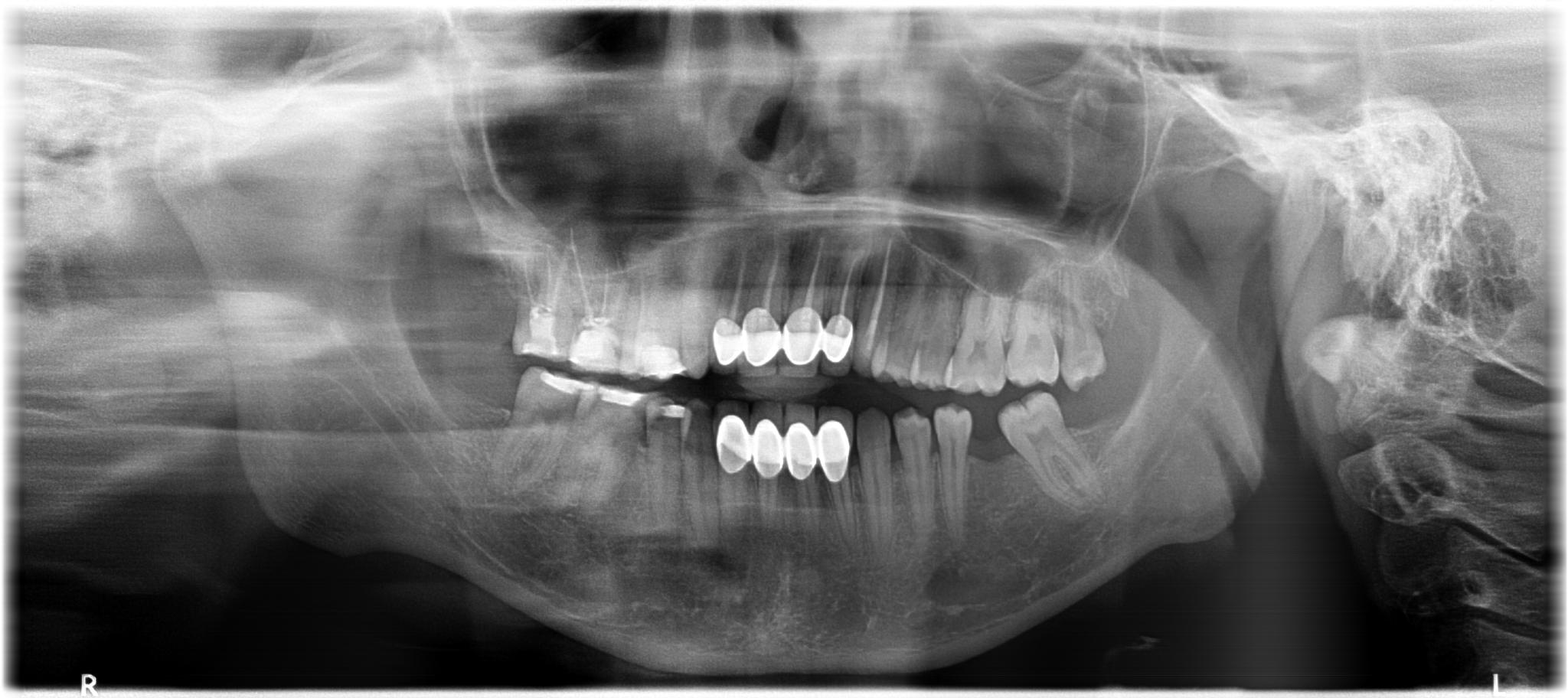Premolars: (500, 243, 1568, 698), (500, 172, 1499, 558), (546, 131, 1568, 392)
